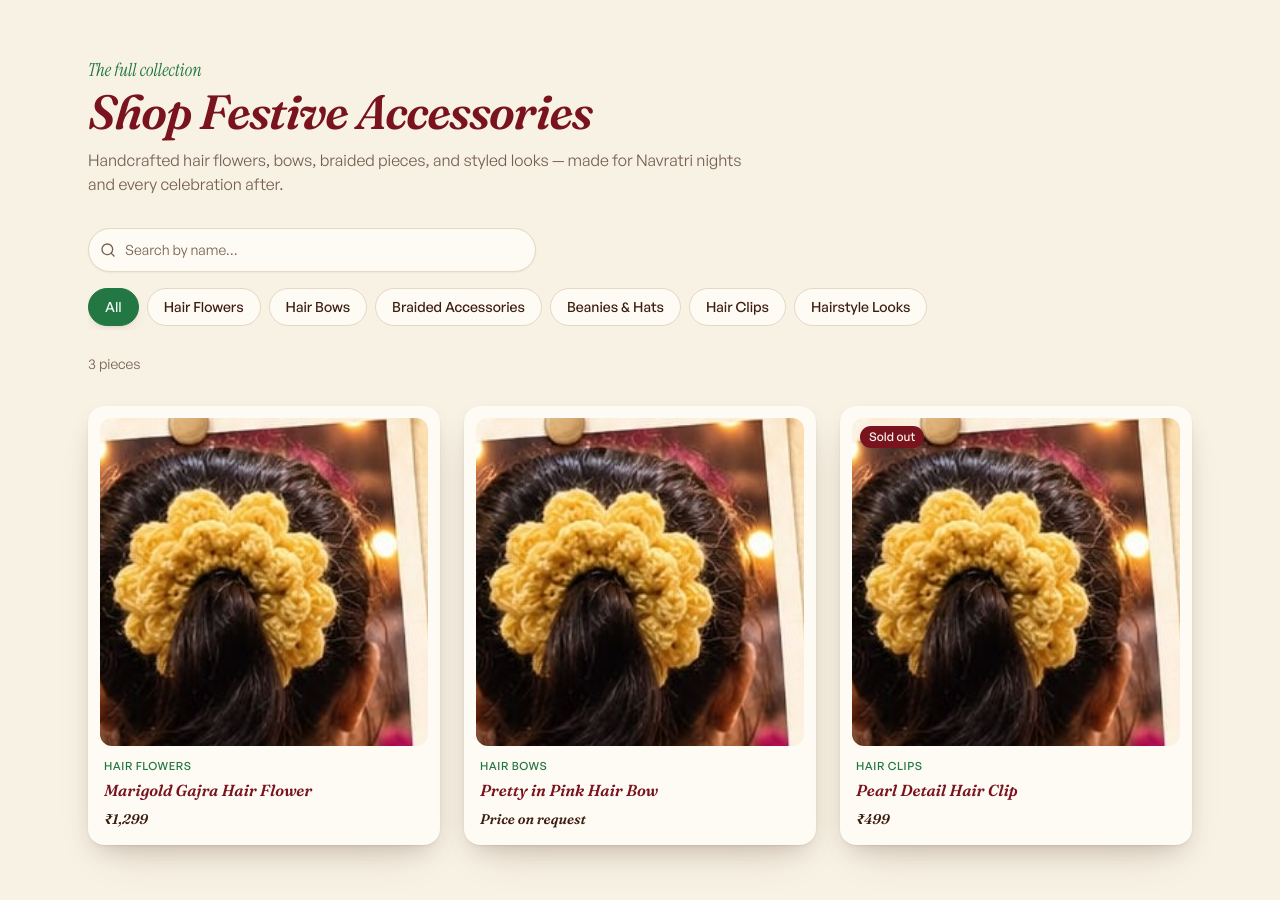
Test: ShopPage › narrows the grid to a category and reflects it in the URL
Expected: the heading "Marigold Gajra Hair Flower" is shown, [104,780,312,800]
Click the button "Hair Bows".
click(318, 307)  # box [269,288,367,326]
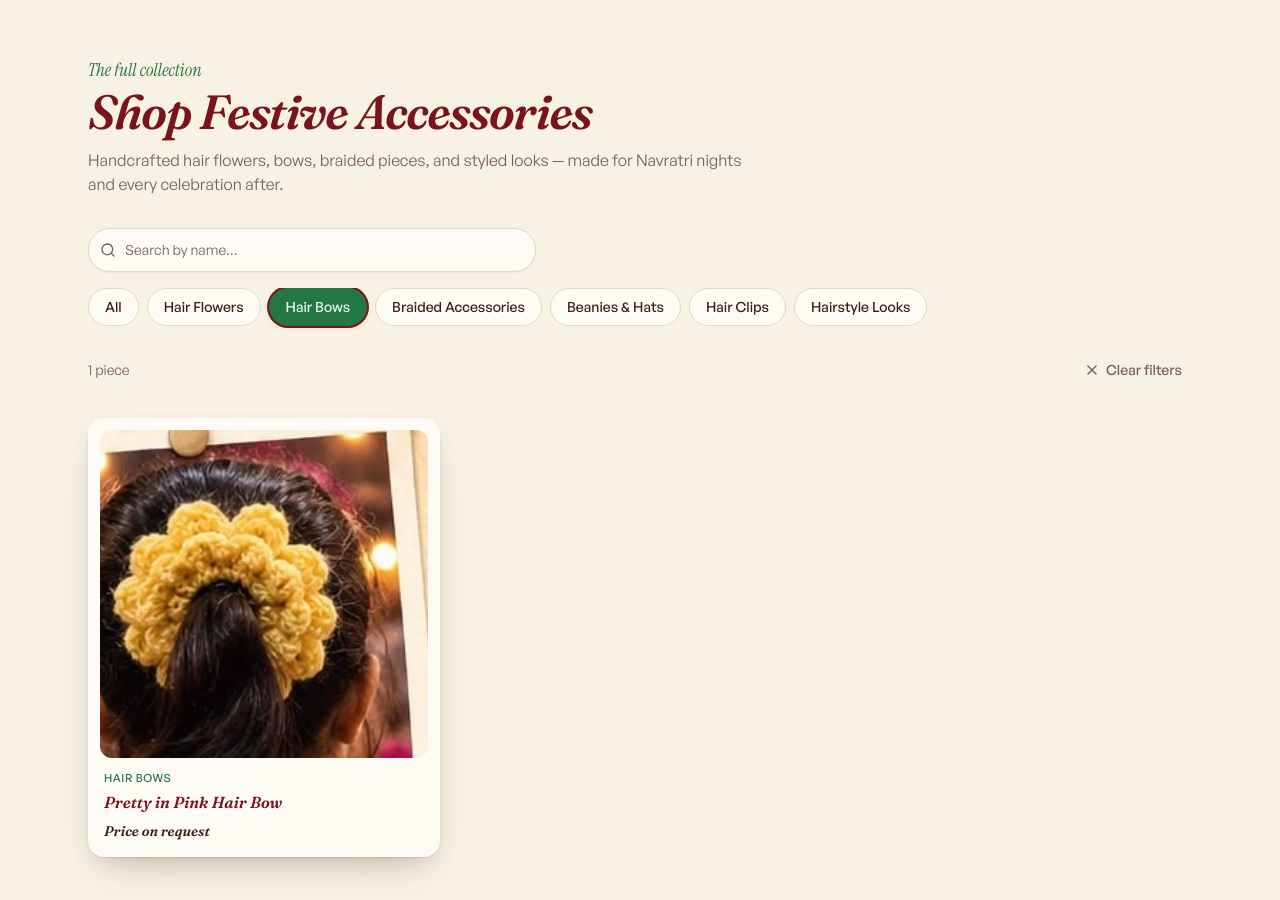
Expected: the heading "Pretty in Pink Hair Bow" is shown, [104,792,282,812]
Now the link "Marigold Gajra Hair Flower" is gone
